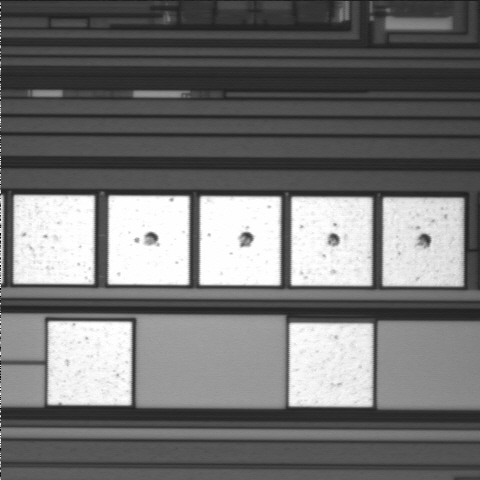pad: (108, 196, 190, 285), (14, 195, 95, 284), (200, 196, 281, 285), (291, 197, 372, 286), (48, 321, 132, 405), (289, 323, 373, 407), (383, 198, 463, 286)
